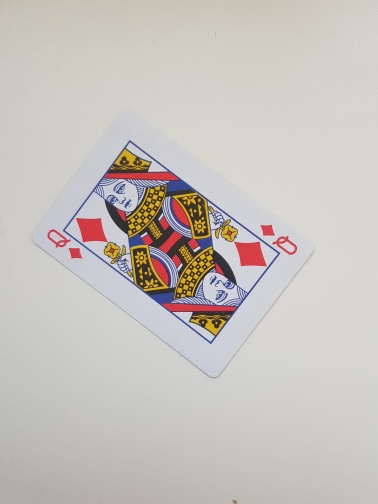queen: (31, 107, 316, 380)
